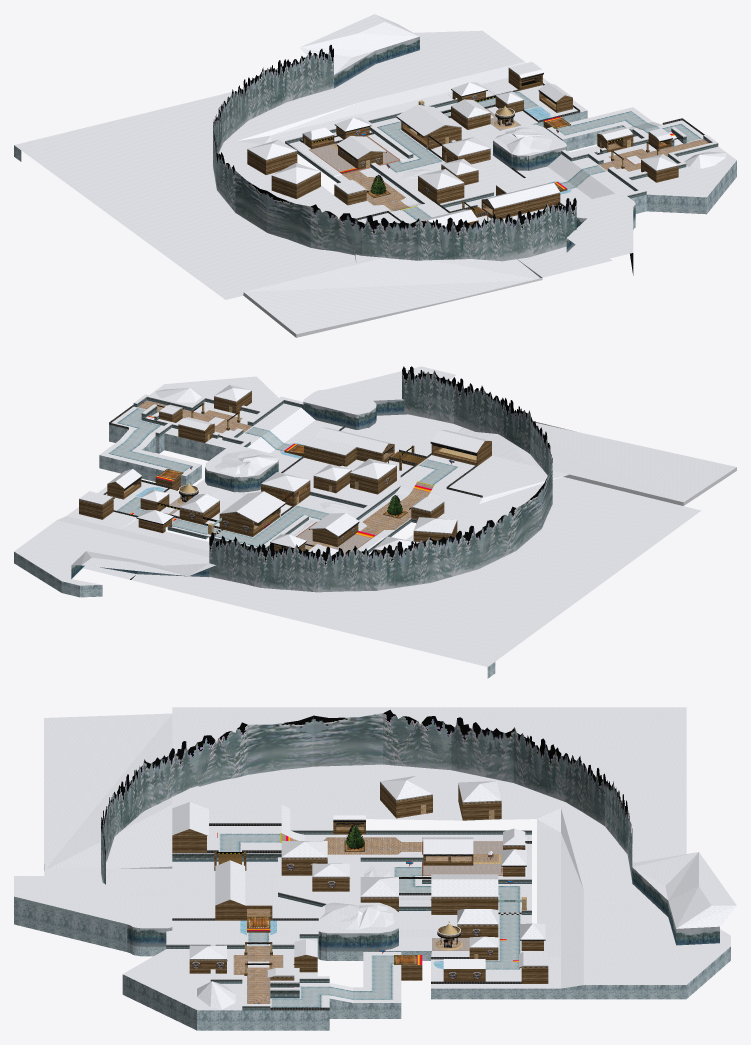
3 renders of one model, top to bottom at view 1: azimuth 30°, elevation 25°; view 2: azimuth 150°, elevation 25°; view 3: azimuth 270°, elevation 25°, orthographic. The views are drawn at different scales.
Visible parts, largest first — view 1: niv-SKP--snow, niv-SKP--TREES, niv-SKP--wooden, niv-SKP--road, niv-SKP--icy_wall, niv-SKP--mountain, niv-SKP--wall, niv-SKP--stone_road, niv-SKP--house-border, niv-SKP--snowy_stone_road, niv-SKP--fence; view 2: niv-SKP--snow, niv-SKP--TREES, niv-SKP--wooden, niv-SKP--road, niv-SKP--icy_wall, niv-SKP--mountain, niv-SKP--stone_road, niv-SKP--wall, niv-SKP--house-border, niv-SKP--fence, niv-SKP--snowy_stone_road, niv-SKP--wood2; view 3: niv-SKP--snow, niv-SKP--TREES, niv-SKP--icy_wall, niv-SKP--wooden, niv-SKP--road, niv-SKP--wall, niv-SKP--mountain, niv-SKP--stone_road, niv-SKP--snowy_stone_road, niv-SKP--house-border, niv-SKP--fence, niv-SKP--lightwood (+1 smaller).
Boxes of the visible parts, x1,y1,x2,y2 form: niv-SKP--snow: (14,14,736,337); niv-SKP--TREES: (213,45,576,261); niv-SKP--wooden: (247,69,678,225); niv-SKP--road: (376,90,702,220); niv-SKP--icy_wall: (14,110,736,229); niv-SKP--mountain: (334,36,635,252); niv-SKP--wall: (285,99,718,207); niv-SKP--stone_road: (334,108,708,210); niv-SKP--house-border: (247,67,678,209); niv-SKP--snowy_stone_road: (310,109,706,205); niv-SKP--fence: (299,83,704,221); niv-SKP--snow: (14,366,736,666); niv-SKP--TREES: (209,366,552,592); niv-SKP--wooden: (79,392,491,552); niv-SKP--road: (107,407,459,547); niv-SKP--icy_wall: (14,424,495,678); niv-SKP--mountain: (71,399,406,578); niv-SKP--stone_road: (138,400,433,549); niv-SKP--wall: (133,396,417,552); niv-SKP--house-border: (79,390,457,554); niv-SKP--fence: (103,405,482,550); niv-SKP--snowy_stone_road: (137,400,410,555); niv-SKP--wood2: (177,405,476,549); niv-SKP--snow: (14,707,736,1010); niv-SKP--TREES: (101,710,632,884); niv-SKP--icy_wall: (14,896,730,1030); niv-SKP--wooden: (172,784,548,983); niv-SKP--road: (218,833,521,1007); niv-SKP--wall: (166,830,531,1010); niv-SKP--mountain: (127,867,719,951); niv-SKP--stone_road: (234,833,498,1003); niv-SKP--snowy_stone_road: (233,837,502,1003); niv-SKP--house-border: (189,782,548,977); niv-SKP--fence: (172,823,531,1010); niv-SKP--lightwood: (247,841,417,964).
Bounding box in the file's own units: 121198 × 12889 × 119793.
Materials: 36 (36 with a texture image).
